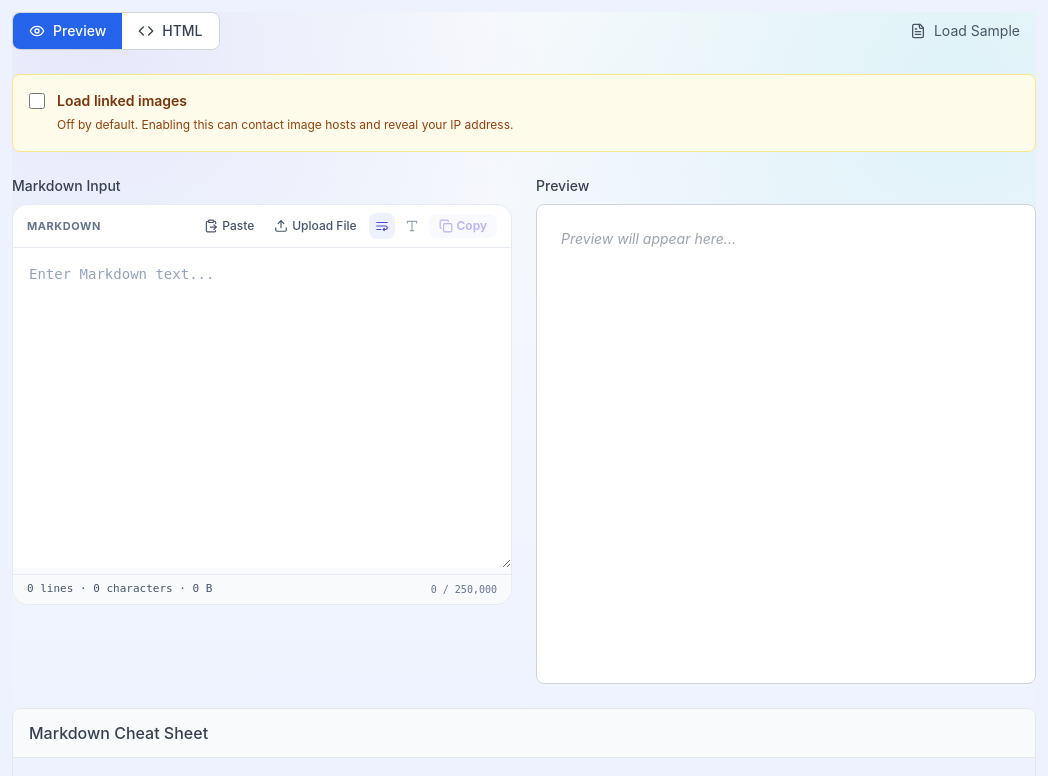
MarkdownPreviewTool › shows clipboard failures instead of silently ignoring them
In the text box labelled "Markdown Input": {"x": 262, "y": 408} [13, 248, 511, 568], type "# Heading"
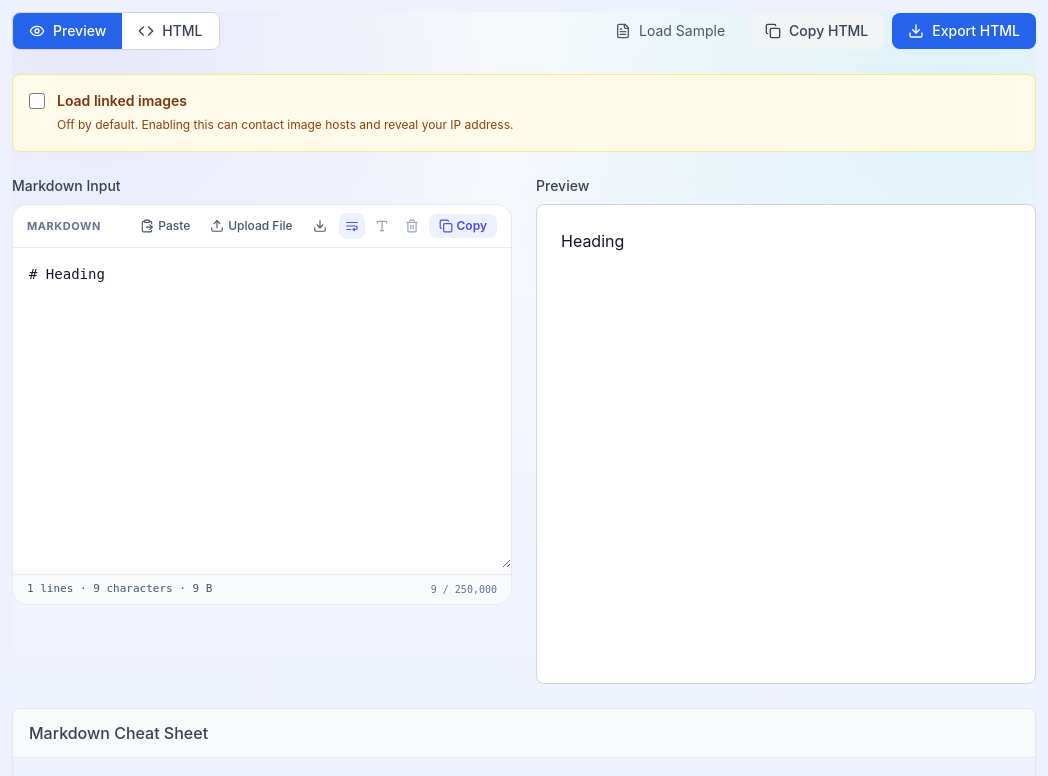
Click the button "Copy HTML": {"x": 817, "y": 31} [749, 13, 884, 49]
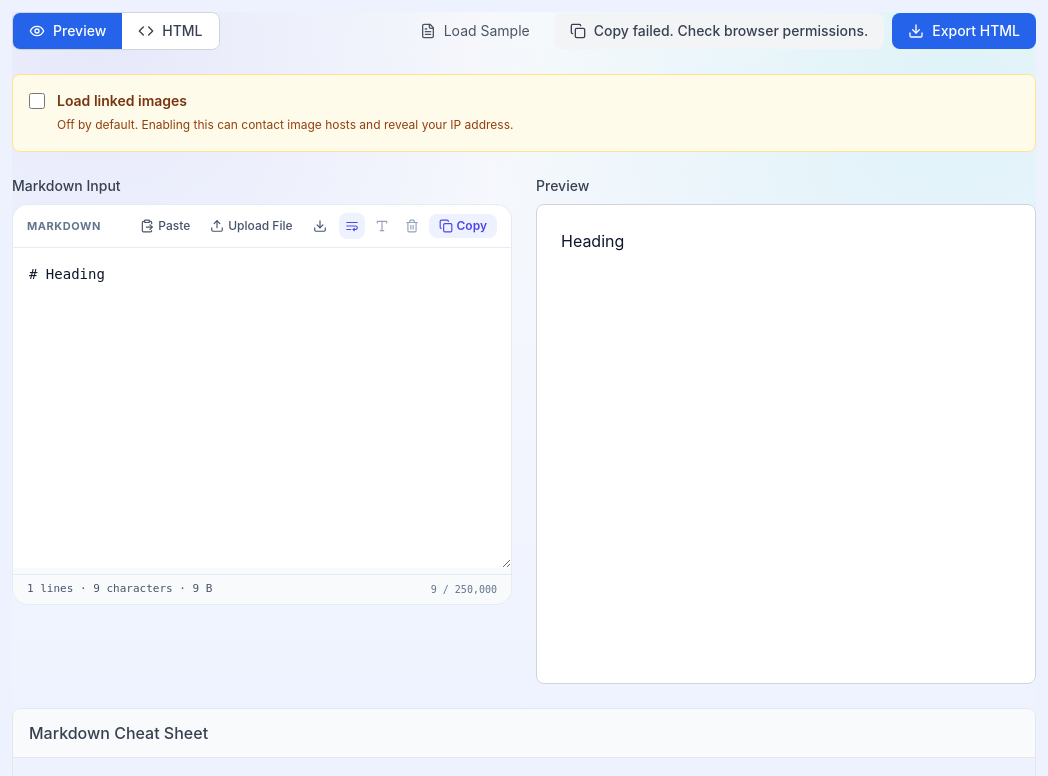
Result: the button "Copy failed. Check browser permissions." is shown at [554, 13, 884, 49]
